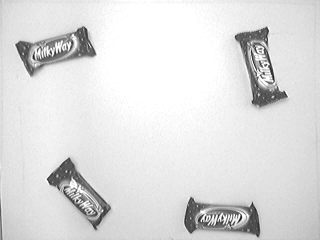Milkyway: (45, 155, 114, 232), (233, 24, 291, 109), (13, 24, 99, 80), (183, 195, 263, 238)
